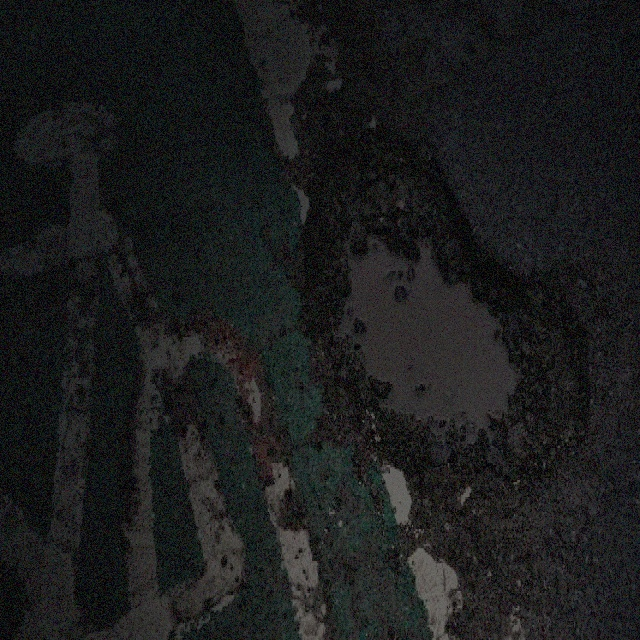pothole: (294, 122, 591, 506)
